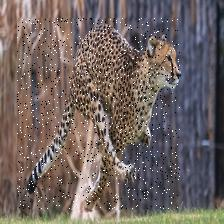Cheetha: (18, 18, 181, 210)
